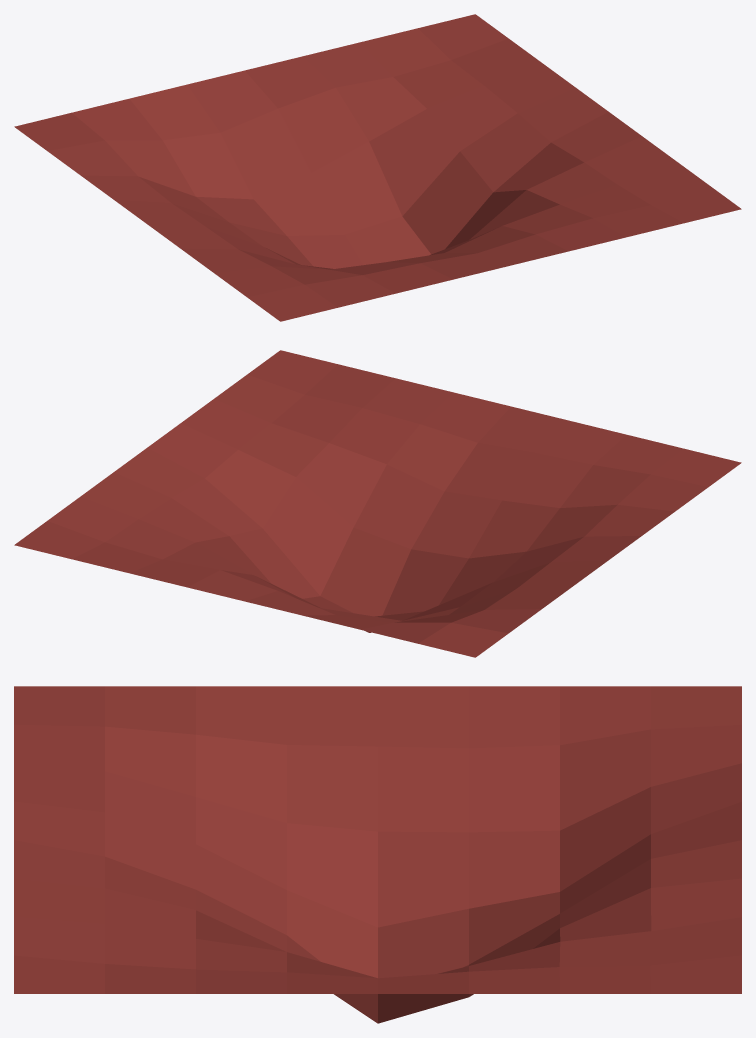
The model's file is Terrain_11_Red.fbx.
The picture shows the model from 3 angles, top to bottom: view 1: azimuth 30°, elevation 25°; view 2: azimuth 150°, elevation 25°; view 3: azimuth 270°, elevation 25°; orthographic projection. The views are drawn at different scales.
Visible parts, largest first — view 1: Terrain_11_Red; view 2: Terrain_11_Red; view 3: Terrain_11_Red.
Part boxes in pixels (x1,y1,x2,y2): Terrain_11_Red: (14,14,741,321); Terrain_11_Red: (14,350,741,657); Terrain_11_Red: (14,686,741,1023).
Bounding box in the file's own units: 5000 × 1260 × 5000.
